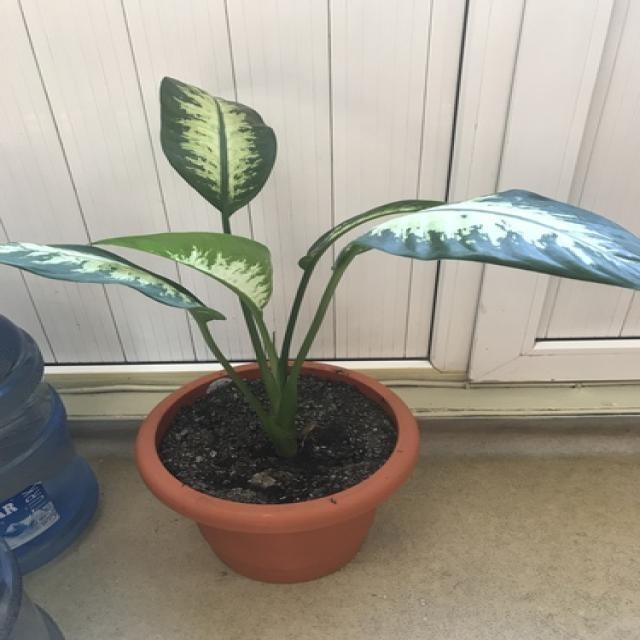dieffenbachia-oVHx: (0, 76, 640, 452)
